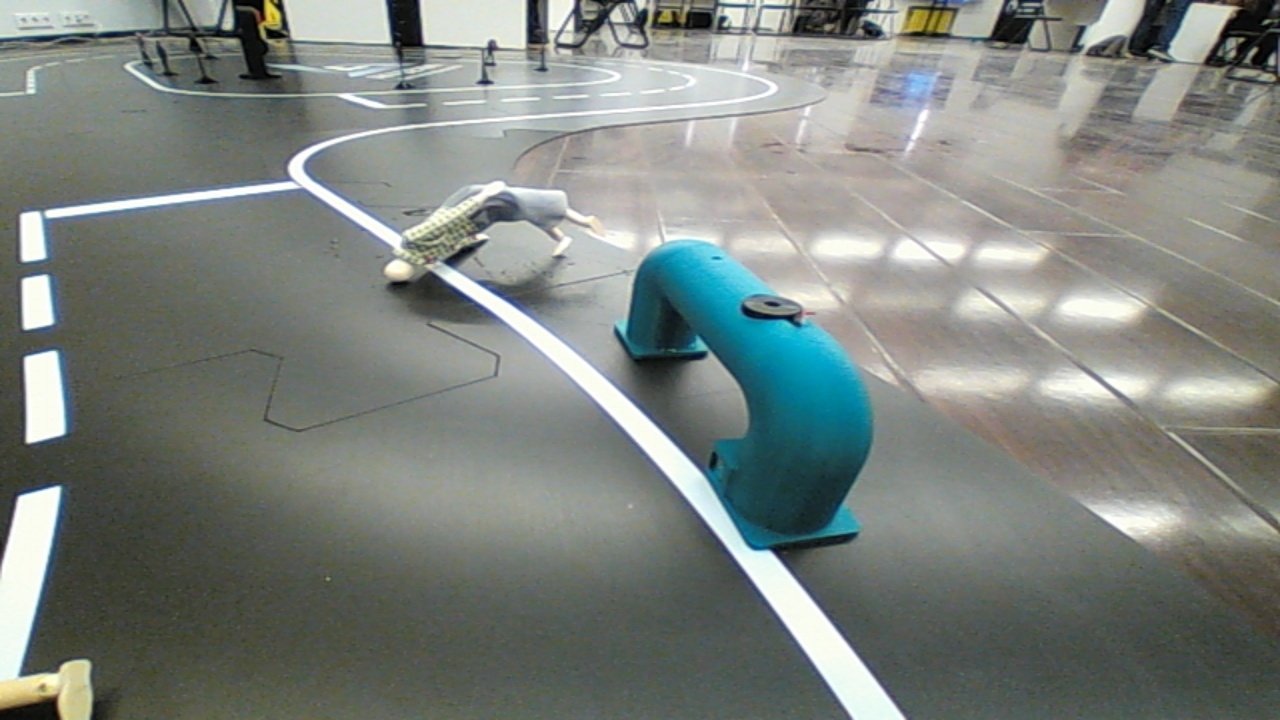Pedestrian crossing: (606, 212, 898, 558)
Road works: (364, 169, 614, 288)
